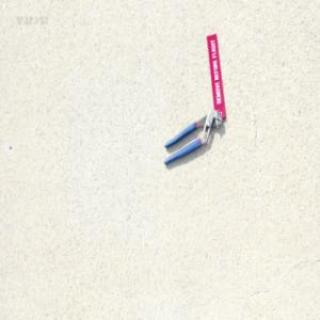LuggageTagtrack_idkeyframe: (206, 33, 226, 119)
Pliertrack_idkeyframe: (162, 108, 222, 164)
